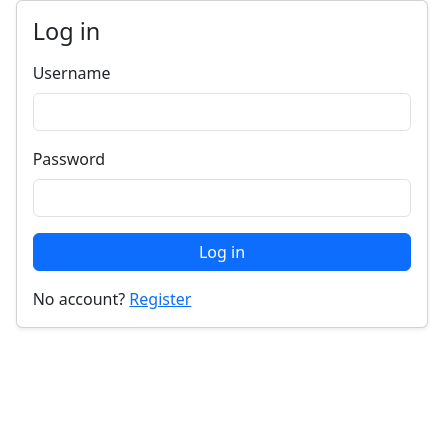
it: Login.vue › shows an error message when login fails
The image size is (445, 421).
Type "alice" into the field with id "username" at (222, 112), box 33,93 -> 411,131
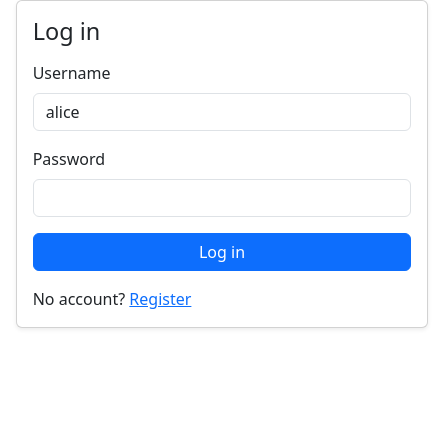
Type "wrong" into the password field labelled "Password" at (222, 198), box 33,179 -> 411,217
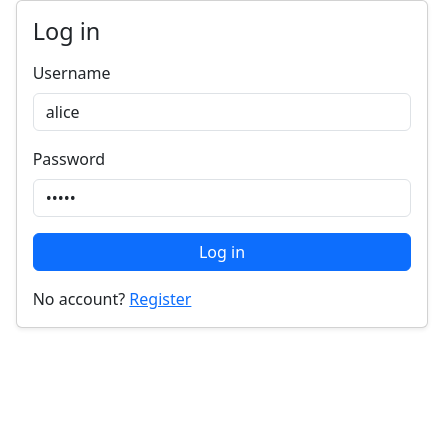
Submit the form, box 33,61 -> 411,271
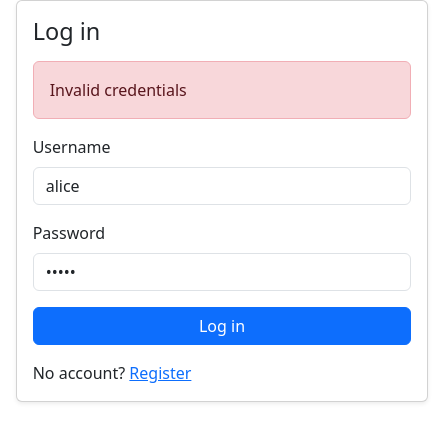
expect the text "Invalid credentials" is shown: met, box 33,61 -> 411,119
